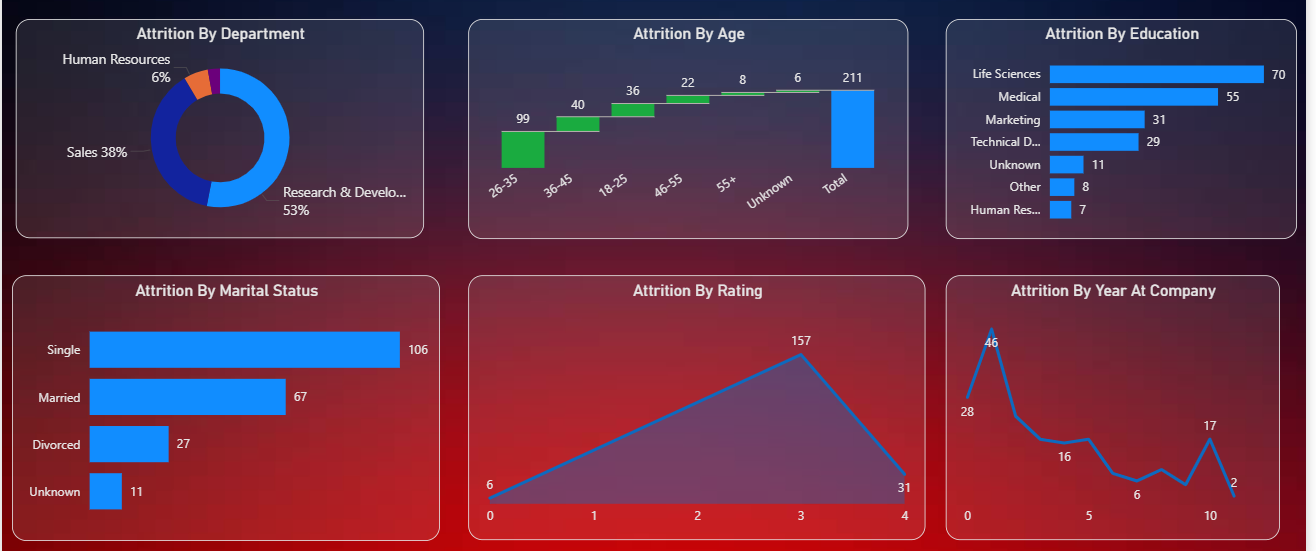

This screenshot's page, from the dashboard's own definition file:
{"tool":"powerbi","page":{"name":"Page 2","canvas":[1280,720],"ordinal":1},"visuals":[{"type":"donutChart","title":"Attrition By Department","fields":{"Category":["HR_Cbi.Department"],"Y":["Sum(HR_Cbi.AttritionCount)"]},"box":[13.7,186.6,400.7,215.4],"z":6000},{"type":"waterfallChart","title":"Attrition By Age","fields":{"Category":["HR_Cbi.AgeGroup"],"Y":["Sum(HR_Cbi.AttritionCount)"]},"box":[457.7,186.5,431.9,216],"z":7000},{"type":"barChart","title":"Attrition By Marital Status","fields":{"Category":["HR_Cbi.MaritalStatus"],"Y":["Sum(HR_Cbi.AttritionCount)"]},"box":[9.6,437.7,419.9,260.7],"z":9000},{"type":"areaChart","title":"Attrition By Rating","fields":{"Category":["HR_Cbi.PerformanceRating"],"Y":["Sum(HR_Cbi.AttritionCount)"]},"box":[457.7,438,449.1,260.1],"z":11000},{"type":"slicer","fields":{"Values":["HR_Cbi.Department"]},"box":[395.2,11,551.6,52.1],"z":13000},{"type":"textbox","box":[16.5,11,360.9,52.1],"z":14000},{"type":"lineChart","title":"Attrition By Year At Company","fields":{"Category":["HR_Cbi.YearsAtCompany"],"Y":["Sum(HR_Cbi.AttritionCount)"]},"box":[926.4,438,327.6,260.1],"z":14001},{"type":"barChart","title":"Attrition By Education","fields":{"Y":["Sum(HR_Cbi.AttritionCount)"],"Category":["HR_Cbi.EducationField"]},"box":[926.4,186.5,344.8,216],"z":14002}]}

Visuals, with their boxes on the page's 1280x720 design canvas (x1, y1, x2, y2). These are canvas units, not pixel positions in the 1316x551 screenshot, which may show the page scaled, cropped or inside an application window:
"Attrition By Department" donutChart: bbox(14, 187, 414, 402)
"Attrition By Age" waterfallChart: bbox(458, 186, 890, 402)
"Attrition By Marital Status" barChart: bbox(10, 438, 430, 698)
"Attrition By Rating" areaChart: bbox(458, 438, 907, 698)
slicer - HR_Cbi.Department: bbox(395, 11, 947, 63)
textbox: bbox(16, 11, 377, 63)
"Attrition By Year At Company" lineChart: bbox(926, 438, 1254, 698)
"Attrition By Education" barChart: bbox(926, 186, 1271, 402)
